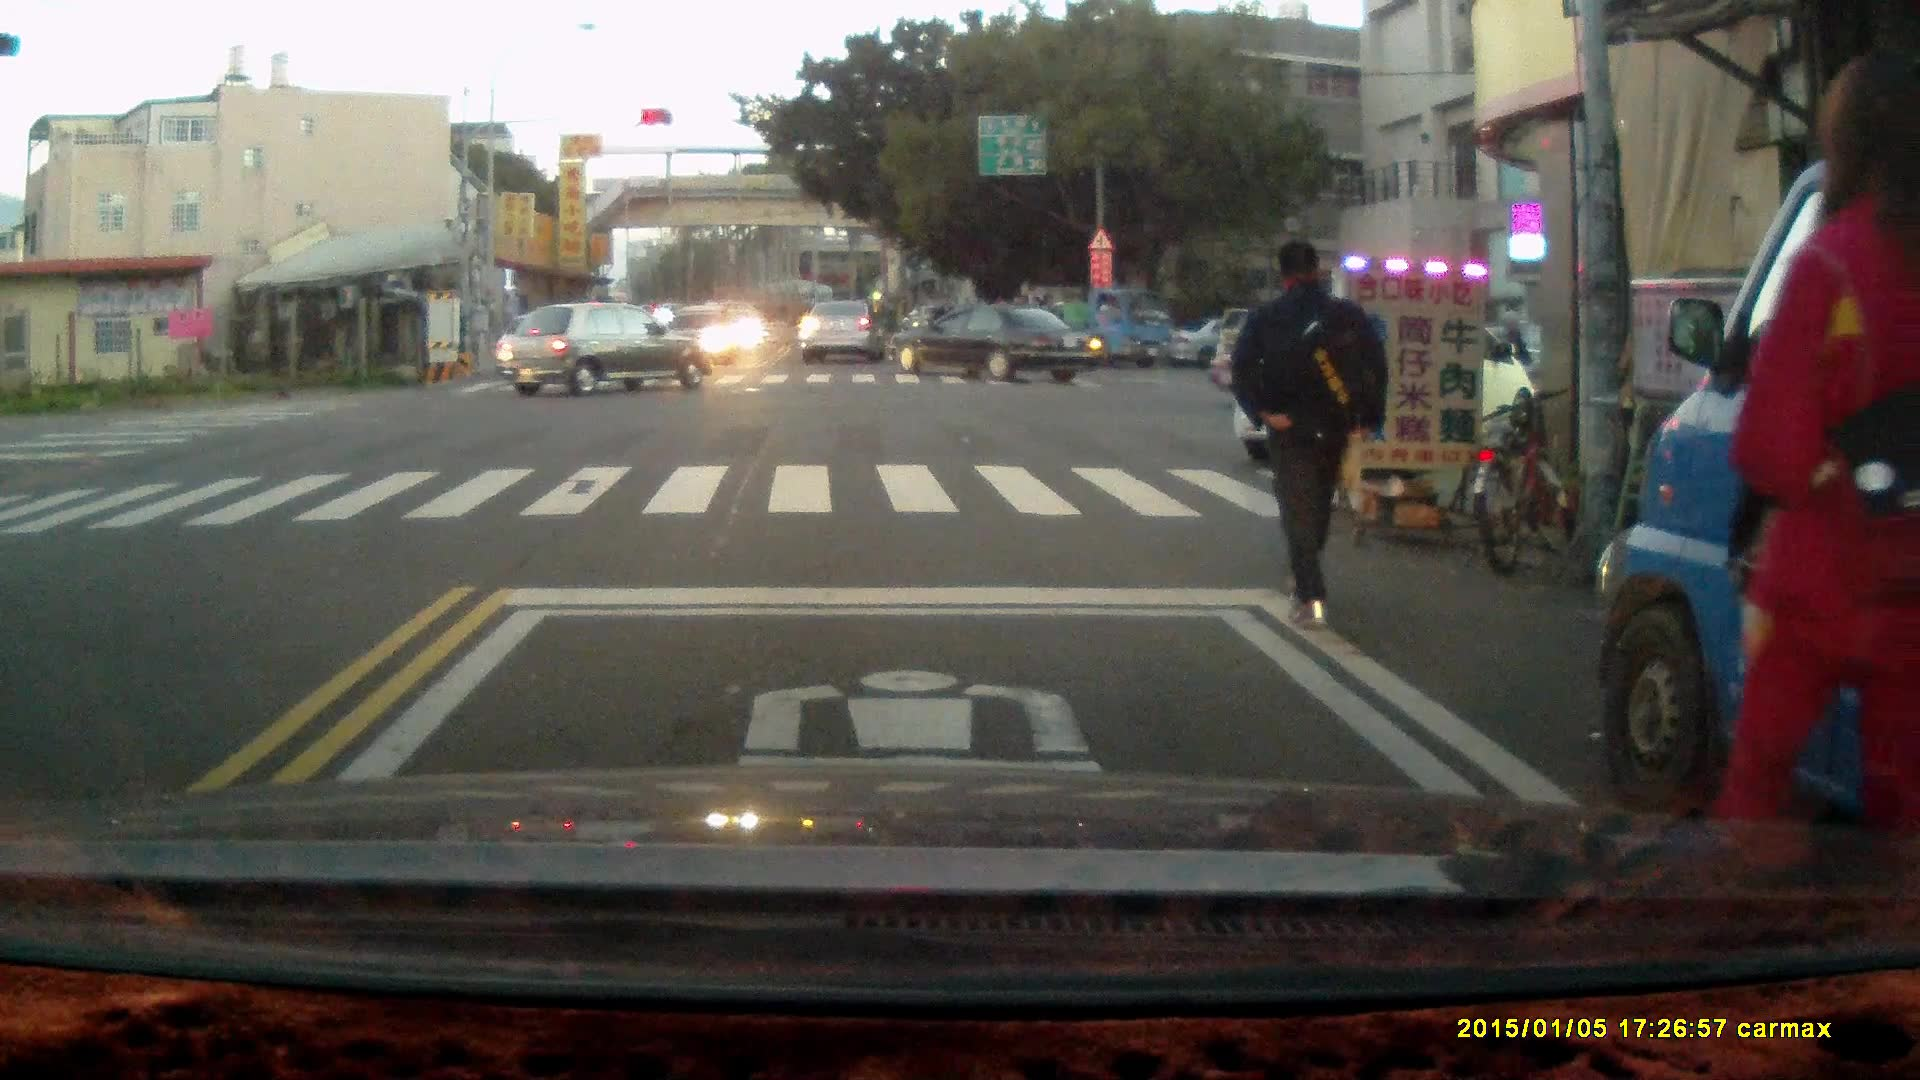pedestrian: (1710, 66, 1920, 864), (1225, 234, 1387, 632)
vehicle: (1598, 132, 1920, 853), (1233, 296, 1533, 459), (495, 304, 717, 400), (885, 303, 1106, 381), (1002, 284, 1175, 367), (803, 302, 886, 370)
